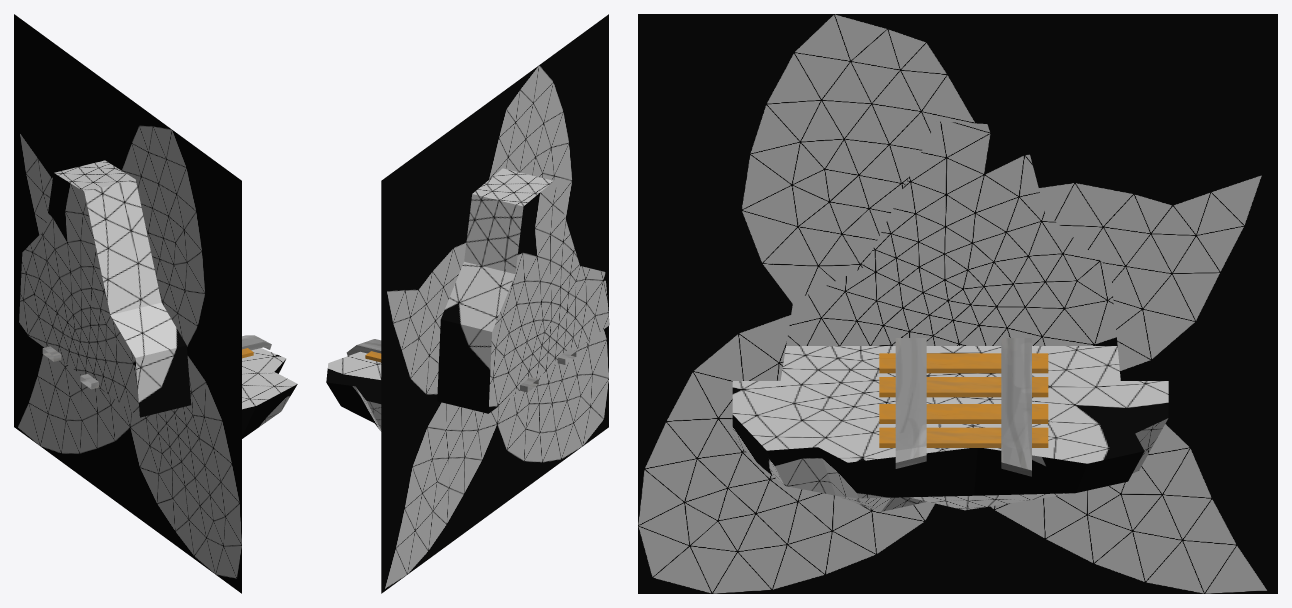
The model's file is Wall-CaveEntryDetail.fbx.
3 views of the same model, side by side, from view 1: azimuth 30°, elevation 25°; view 2: azimuth 150°, elevation 25°; view 3: azimuth 270°, elevation 25° (orthographic). The views are drawn at different scales.
Visible parts, largest first — view 1: Wall-CaveEntryDetail; view 2: Wall-CaveEntryDetail; view 3: Wall-CaveEntryDetail.
Boxes of the visible parts, x1=… form: Wall-CaveEntryDetail: x1=14, y1=14, x2=297, y2=593; Wall-CaveEntryDetail: x1=326, y1=14, x2=609, y2=593; Wall-CaveEntryDetail: x1=638, y1=14, x2=1277, y2=593.
Bounding box in the file's own units: 91.73 × 200 × 200.
